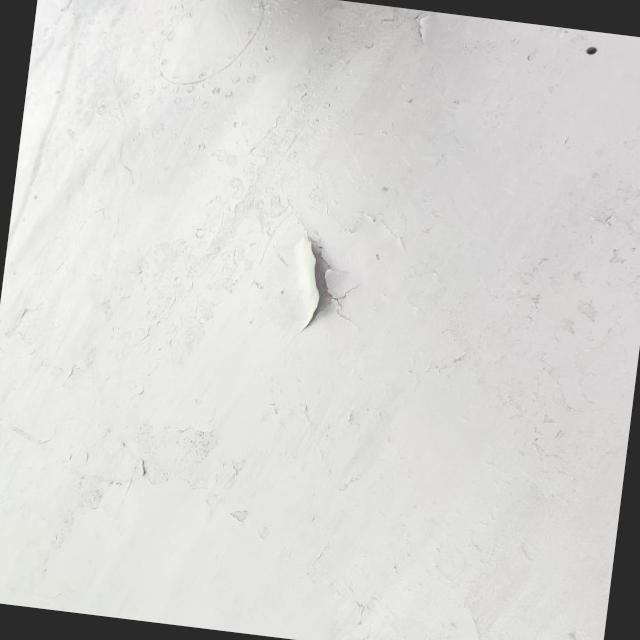paint-off: (292, 272, 418, 358)
